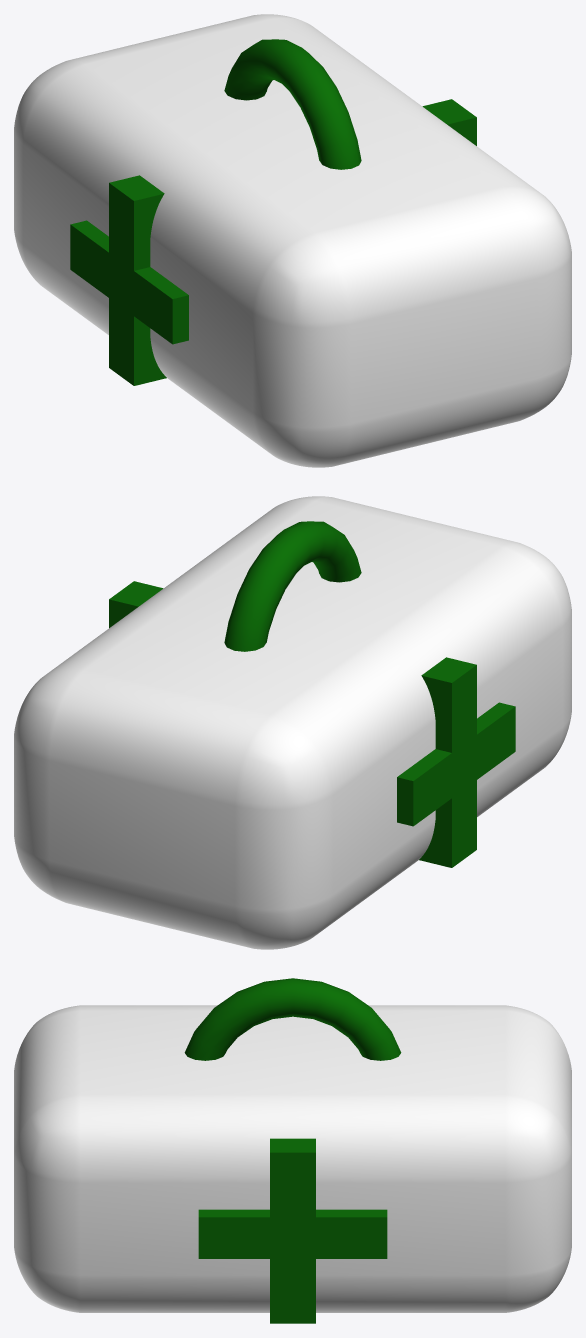
Rendered from kit.FBX.
The picture shows the model from 3 angles, top to bottom: view 1: azimuth 30°, elevation 25°; view 2: azimuth 150°, elevation 25°; view 3: azimuth 270°, elevation 25°; orthographic projection. The views are drawn at different scales.
Visible parts, largest first — view 1: Box002; view 2: Box002; view 3: Box002.
Boxes of the visible parts, box(x1,y1,x2,y2) form: Box002: box(14, 14, 571, 467); Box002: box(14, 496, 571, 949); Box002: box(14, 978, 571, 1323).
Size of the model in its own units: 19 by 16.34 by 28.94.
